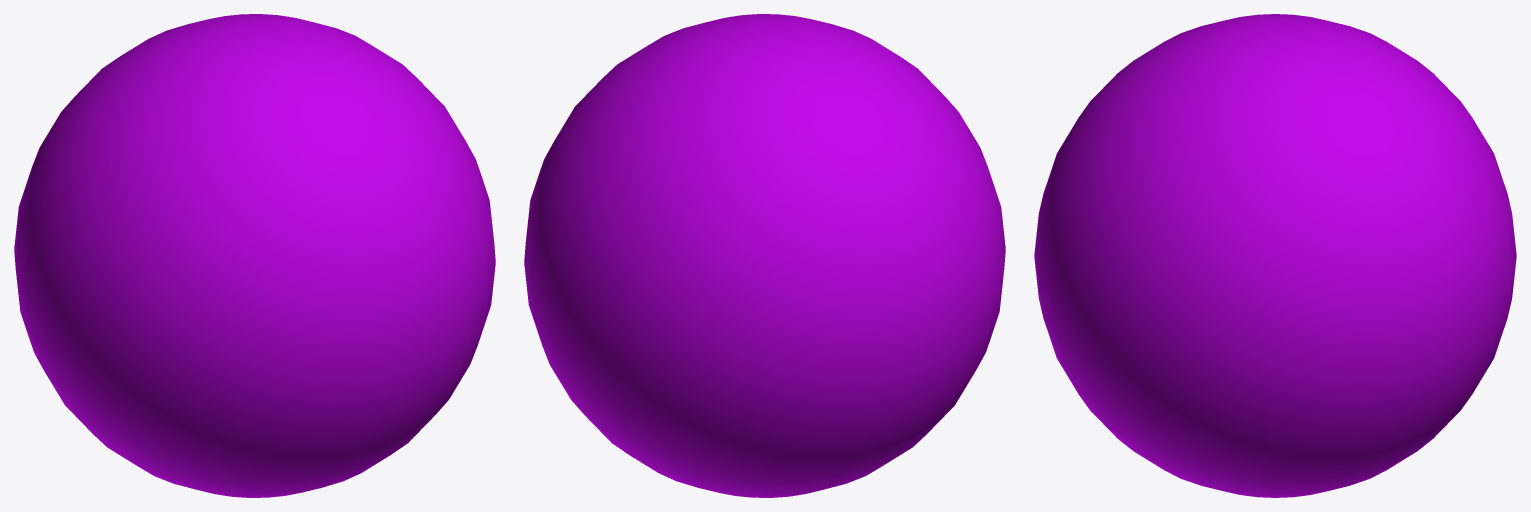
File: purple.fbx
3 renders of one model, left to right at view 1: azimuth 30°, elevation 25°; view 2: azimuth 150°, elevation 25°; view 3: azimuth 270°, elevation 25°, orthographic.
Parts seen in each view (by area): view 1: Sphere; view 2: Sphere; view 3: Sphere.
Boxes of the visible parts, box(x1,y1,x2,y2) form: Sphere: box(14, 14, 495, 497); Sphere: box(524, 14, 1005, 497); Sphere: box(1034, 14, 1516, 497).
Size of the model in its own units: 99.04 by 99.04 by 99.04.
